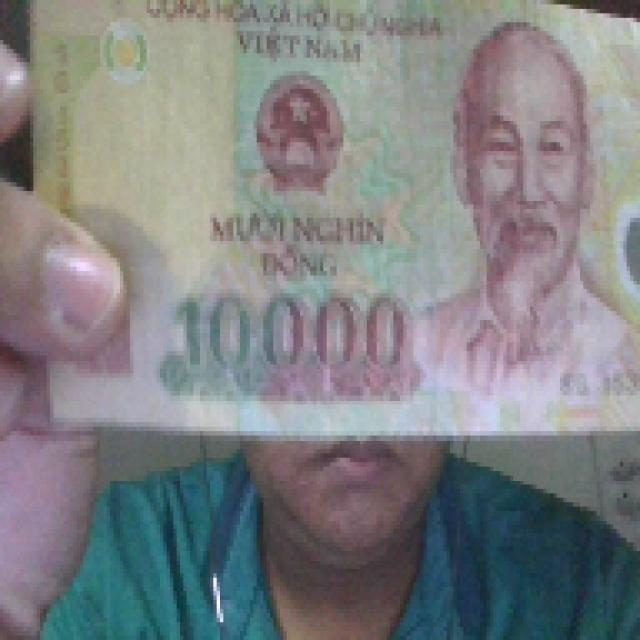10 000 VND: (26, 0, 636, 440)
